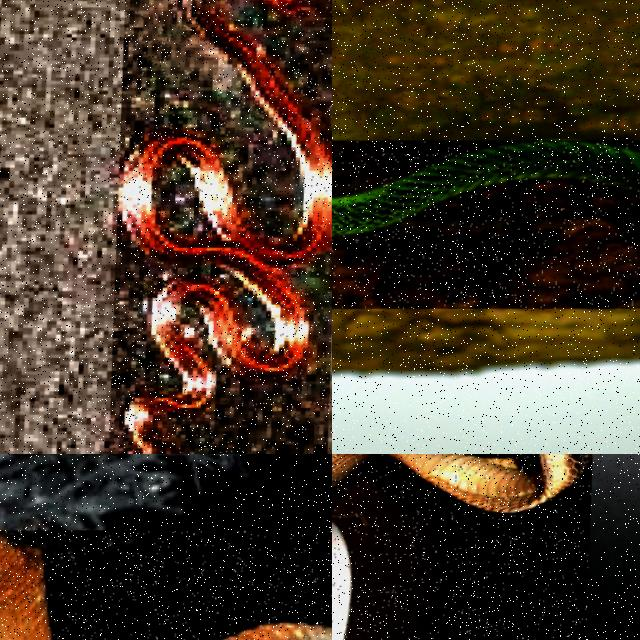Calliophis intestinalis: (117, 0, 331, 453)
Chrysopelea ornata: (332, 140, 639, 235)
Naja kaouthia: (384, 454, 590, 513), (0, 537, 53, 639)
snake: (117, 0, 331, 453), (332, 140, 639, 235), (384, 454, 590, 513), (0, 537, 53, 639)
